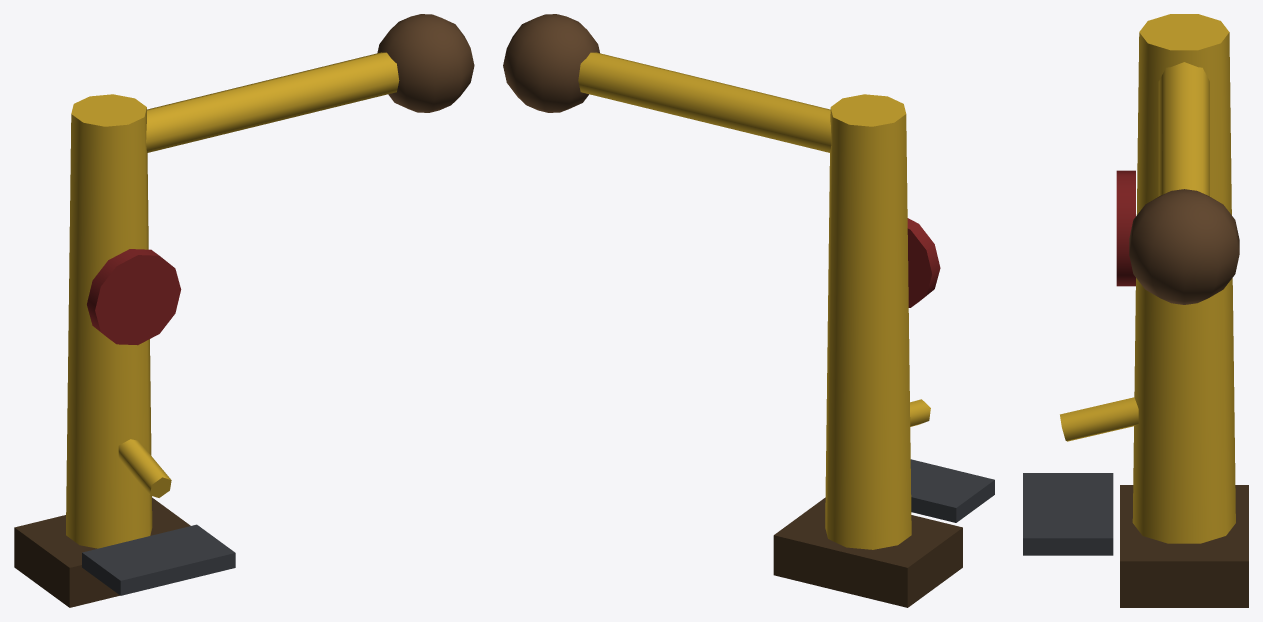
File: beer-pump.glb
3 views of the same model, side by side, from view 1: azimuth 30°, elevation 25°; view 2: azimuth 150°, elevation 25°; view 3: azimuth 270°, elevation 25° (orthographic). The views are drawn at different scales.
Bounding box in the file's own units: 0.445 × 0.475 × 0.175.
